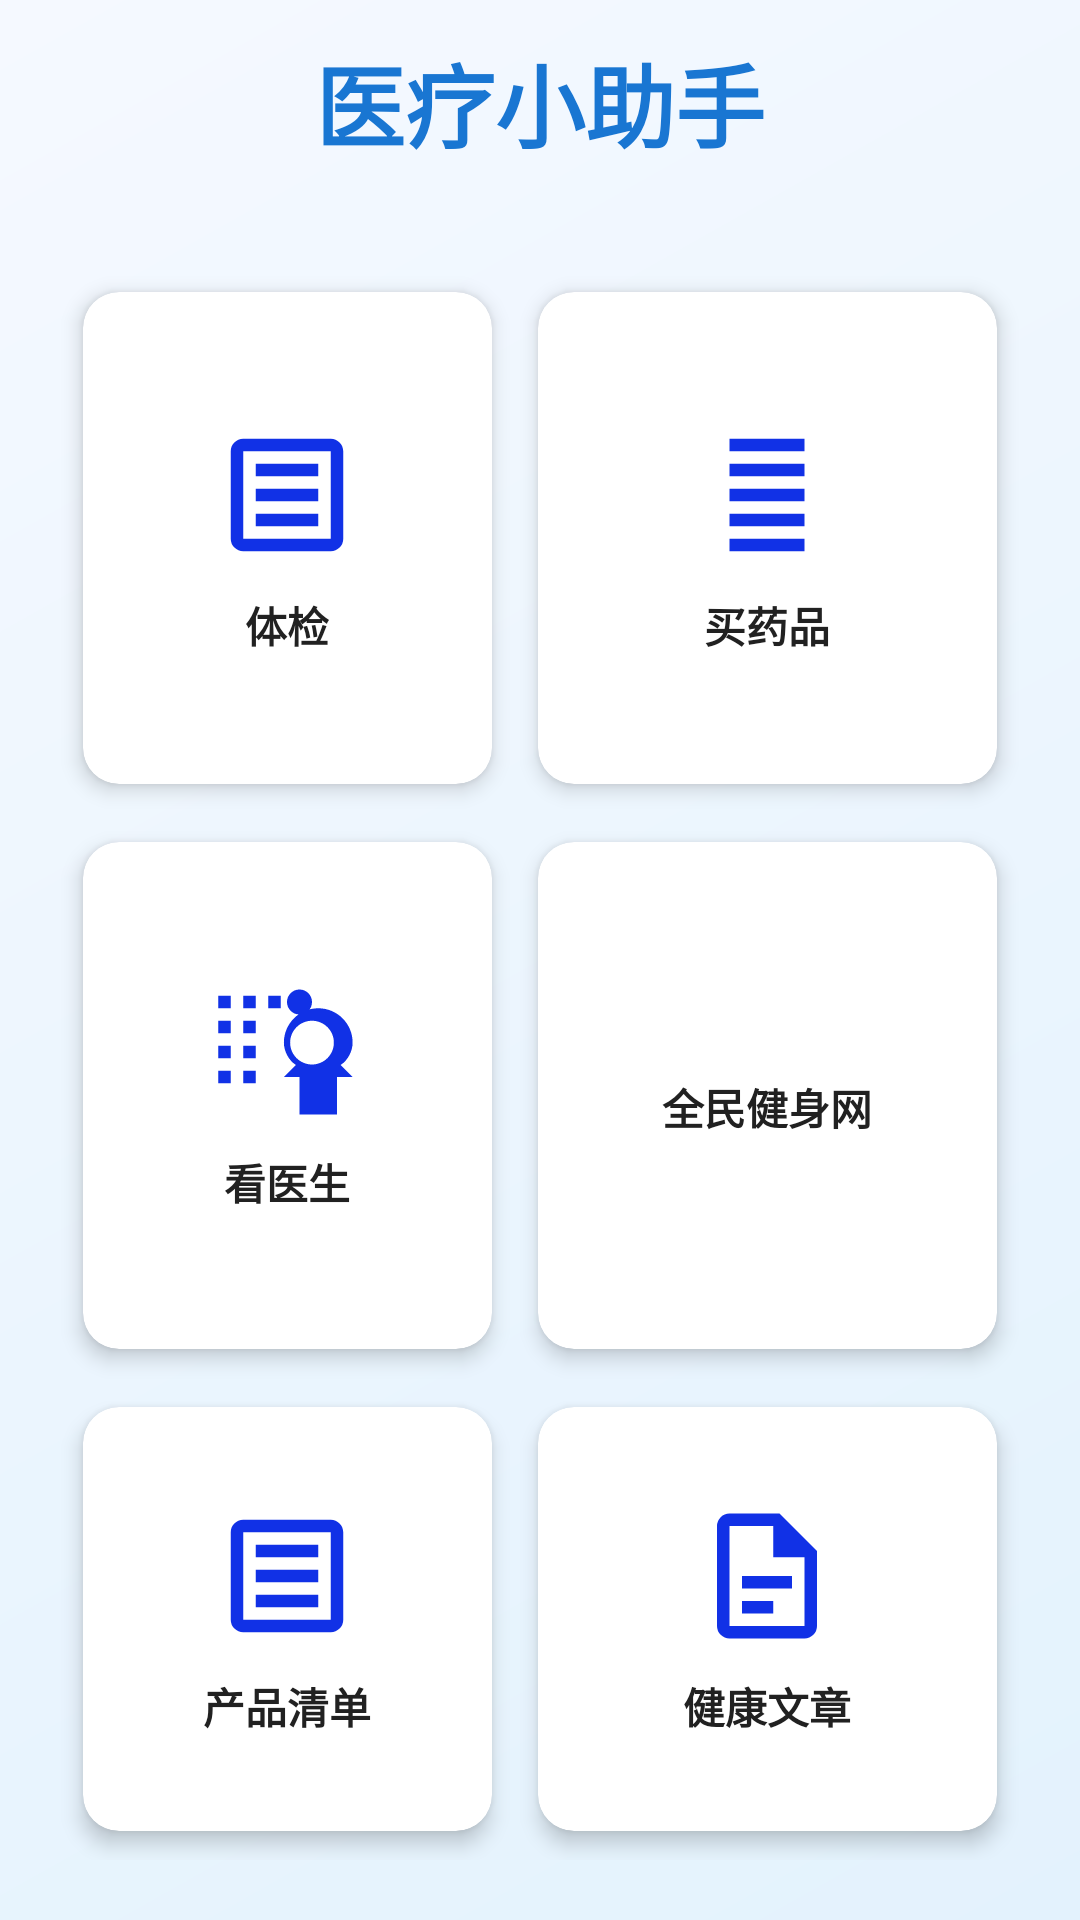

Where icons sit on this 1080 x 1920 app screen, as (x1, y1, x2, y2):
article: (717, 1513, 817, 1639)
shopping list: (230, 1519, 344, 1633)
